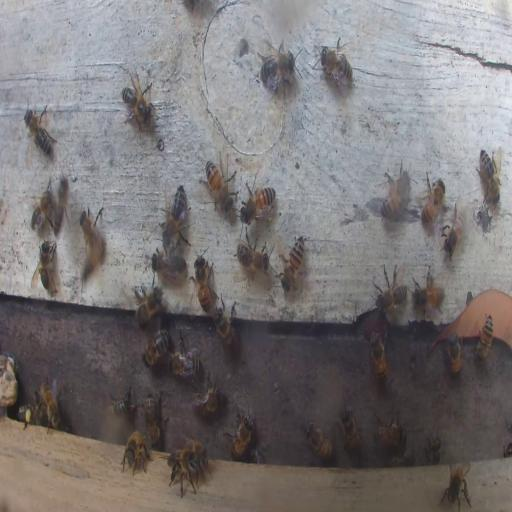bee: (257, 39, 297, 96), (318, 33, 354, 92), (204, 153, 236, 214), (79, 204, 105, 272), (380, 164, 412, 218), (440, 459, 473, 511), (120, 75, 153, 127), (24, 102, 54, 158), (163, 184, 189, 247), (240, 181, 278, 224), (224, 411, 255, 460), (280, 234, 306, 292), (31, 238, 58, 293), (418, 173, 446, 226), (477, 148, 502, 207), (373, 273, 408, 315), (440, 200, 464, 260), (214, 304, 239, 360), (235, 238, 269, 278), (191, 374, 223, 416), (414, 270, 443, 316), (121, 429, 151, 473), (168, 450, 197, 495), (31, 182, 55, 232), (337, 408, 363, 454), (134, 284, 163, 325), (150, 249, 186, 282), (306, 422, 334, 463), (143, 393, 164, 446), (142, 327, 170, 366), (194, 256, 213, 312), (38, 380, 60, 428), (368, 331, 388, 383), (372, 419, 406, 449), (53, 174, 70, 232), (108, 386, 137, 418), (475, 314, 494, 361), (168, 349, 200, 376), (446, 333, 462, 376), (182, 439, 207, 465), (426, 430, 442, 462), (16, 404, 34, 426), (387, 450, 413, 464), (249, 446, 266, 464)
